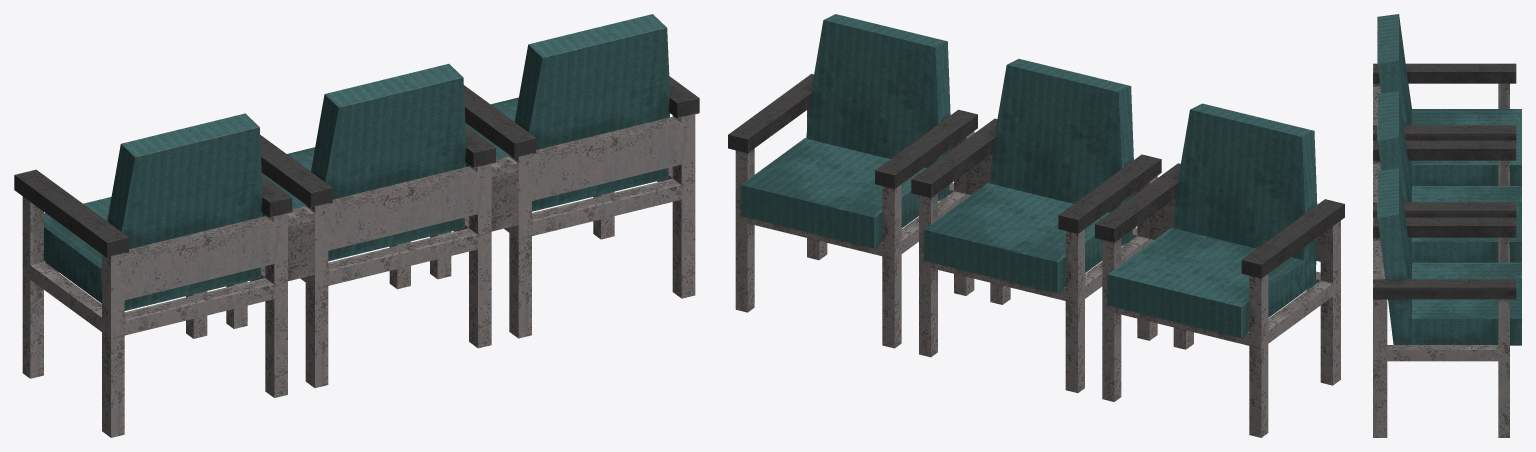
The model's file is SM_WaitingChair_Row_3.fbx.
3 renders of one model, left to right at view 1: azimuth 30°, elevation 25°; view 2: azimuth 150°, elevation 25°; view 3: azimuth 270°, elevation 25°, orthographic. The views are drawn at different scales.
Visible parts, largest first — view 1: SM_WaitingChair_Row_3; view 2: SM_WaitingChair_Row_3; view 3: SM_WaitingChair_Row_3.
Boxes of the visible parts, box(x1,y1,x2,y2) form: SM_WaitingChair_Row_3: box(14, 14, 699, 437); SM_WaitingChair_Row_3: box(728, 14, 1344, 437); SM_WaitingChair_Row_3: box(1373, 14, 1521, 437).
Bounding box in the file's own units: 239 × 106 × 67.23.
